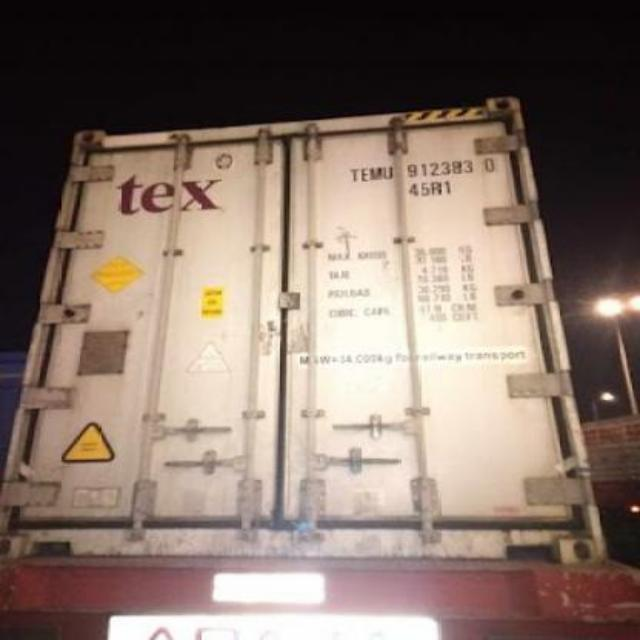0: (484, 157, 496, 173)
1: (420, 162, 430, 176)
2: (426, 162, 442, 176)
3: (462, 159, 474, 175), (441, 162, 454, 174)
8: (452, 159, 462, 175)
9: (406, 162, 418, 178)
E: (360, 168, 370, 182)
M: (371, 168, 384, 180)
T: (350, 168, 358, 180)
U: (384, 166, 394, 178)
